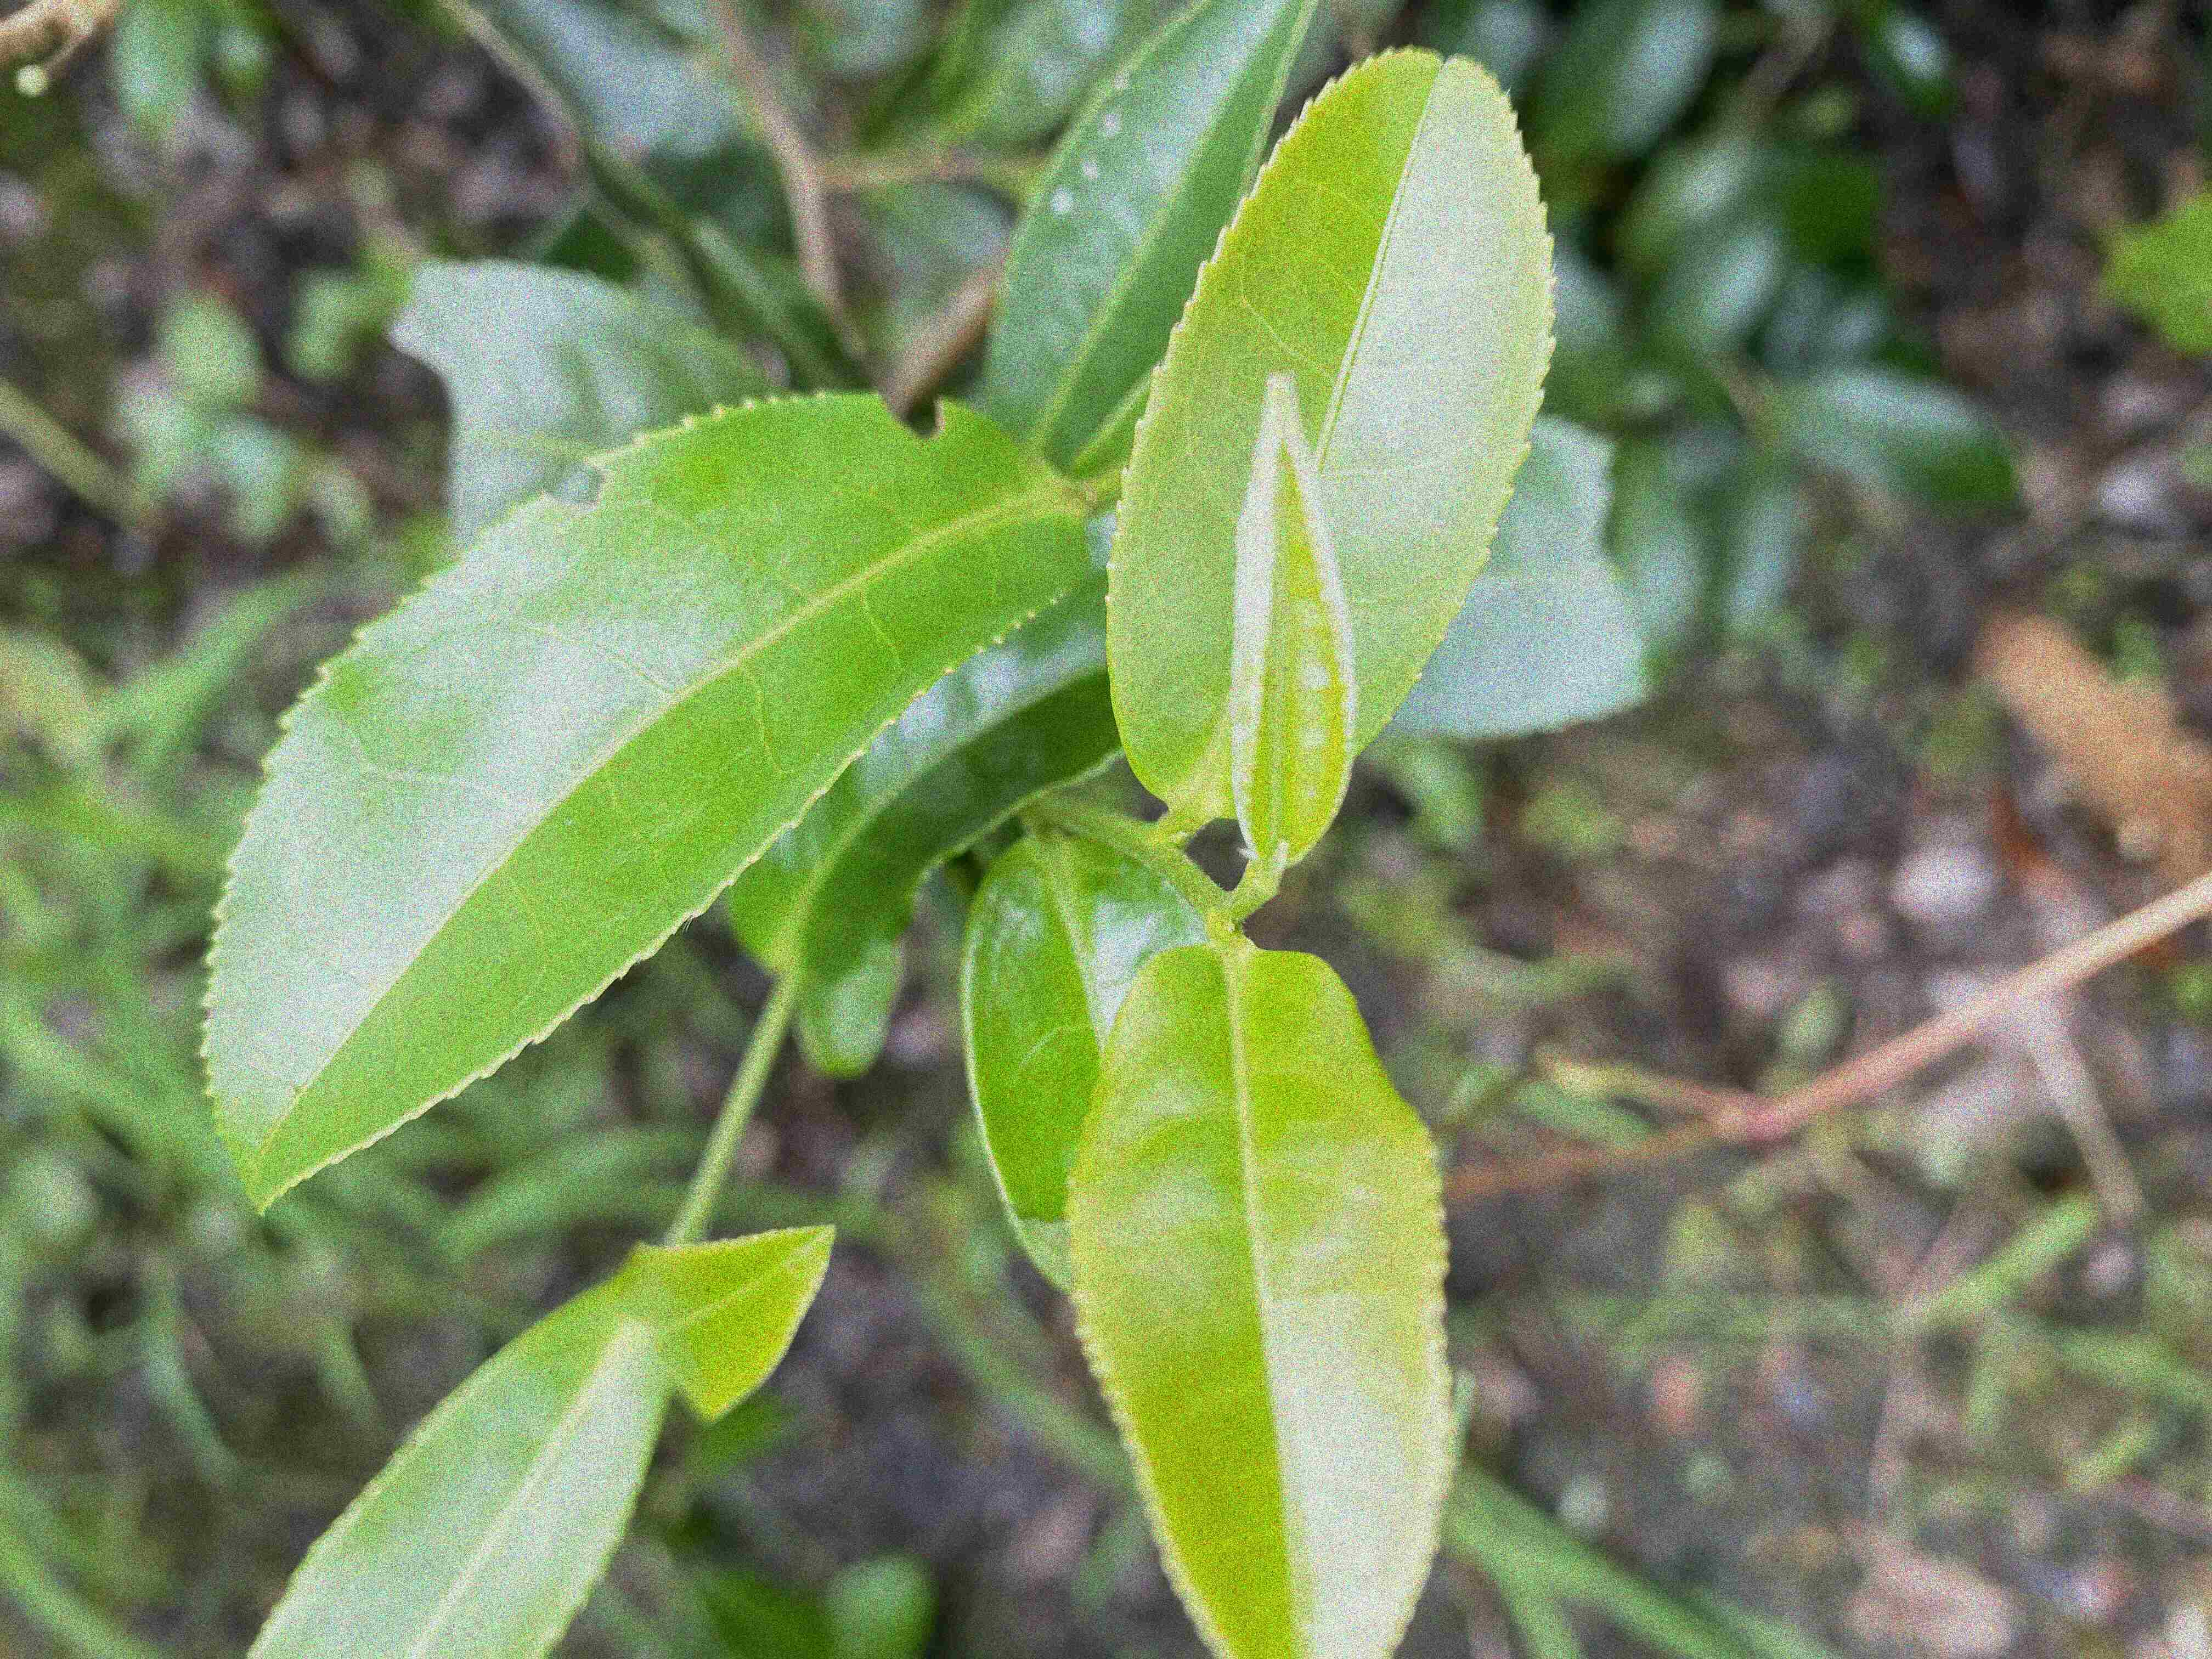chihuo_high: (200, 390, 1087, 1218)
healthy: (1106, 45, 1566, 826), (1062, 934, 1467, 1654), (247, 1300, 665, 1656), (1226, 371, 1355, 864), (608, 1220, 836, 1417)
